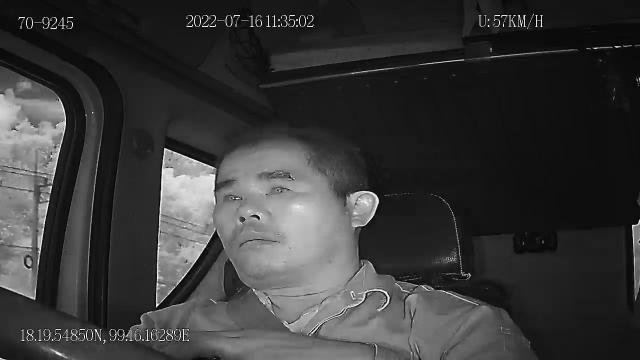SafeDriving: (260, 174, 300, 200), (215, 181, 248, 209)
Seatbelt: (221, 286, 305, 336)
